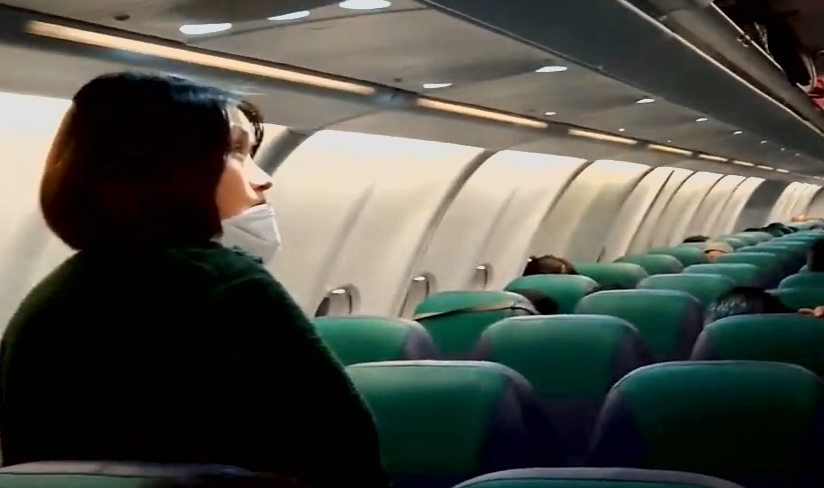mask_weared_incorrect: (136, 68, 285, 265)
